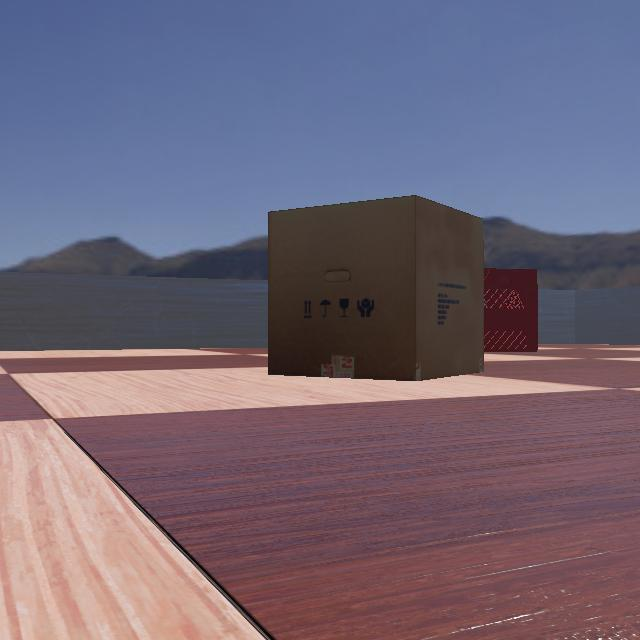cardboard-box: (260, 194, 518, 383)
